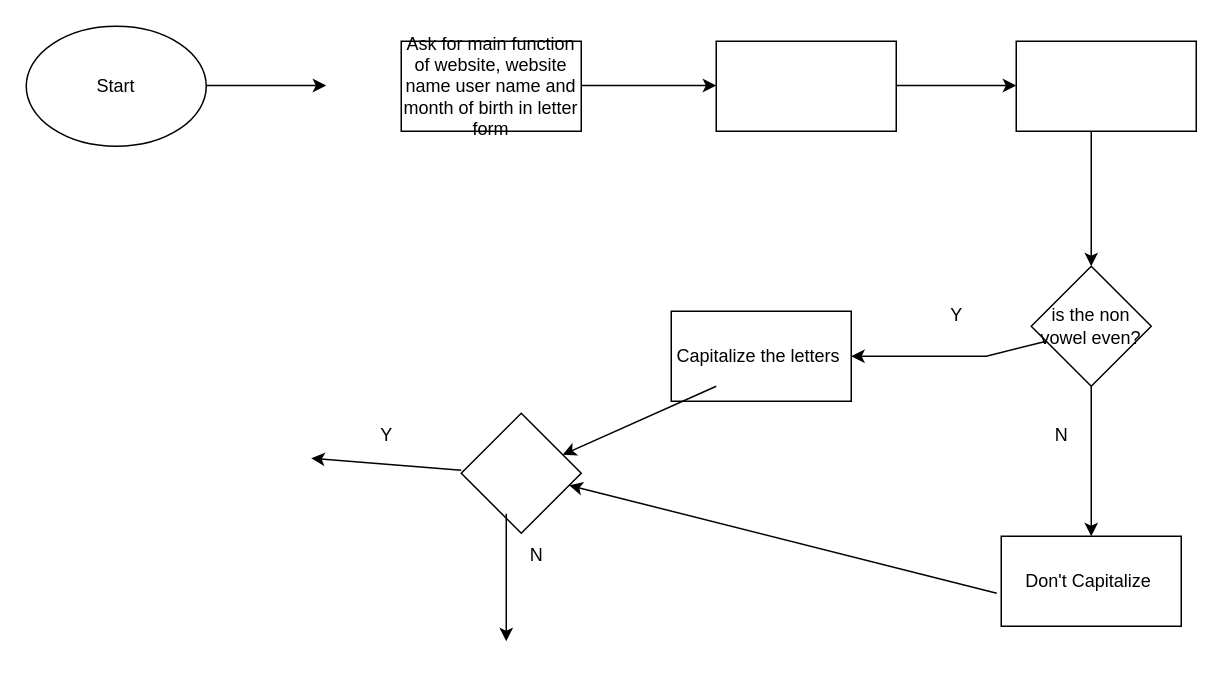
Some shapes in this 1223 by 680 pixel diagram are drawn without their labels. The shapes that lost their labels are listed below. From the top down, each one's centre as x and y in pixels, then its label:
(x=805, y=85): Remove Vowels
(x=1105, y=85): Count number of non vowels
(x=520, y=472): Is vowel A or E
